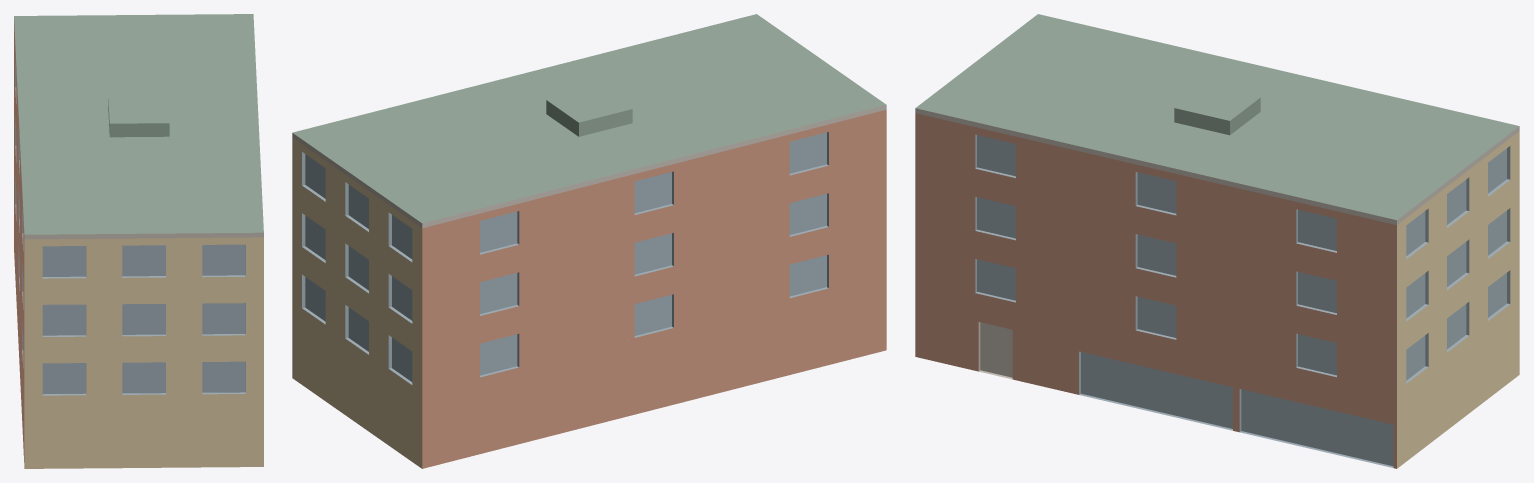
The model's file is doitt-102705__lod_0.glb.
The picture shows the model from 3 angles, left to right: view 1: azimuth 30°, elevation 25°; view 2: azimuth 150°, elevation 25°; view 3: azimuth 270°, elevation 25°; orthographic projection. The views are drawn at different scales.
Bounding box in the file's own units: 26.3 × 15.64 × 32.56.
